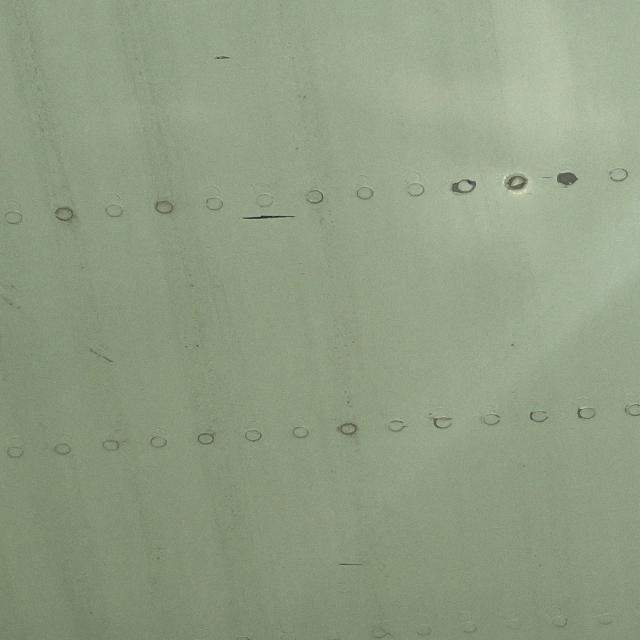crack: (244, 214, 304, 229), (212, 54, 238, 63)
